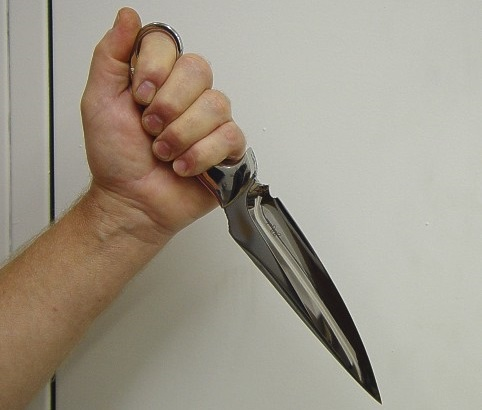knife: (141, 108, 391, 406)
